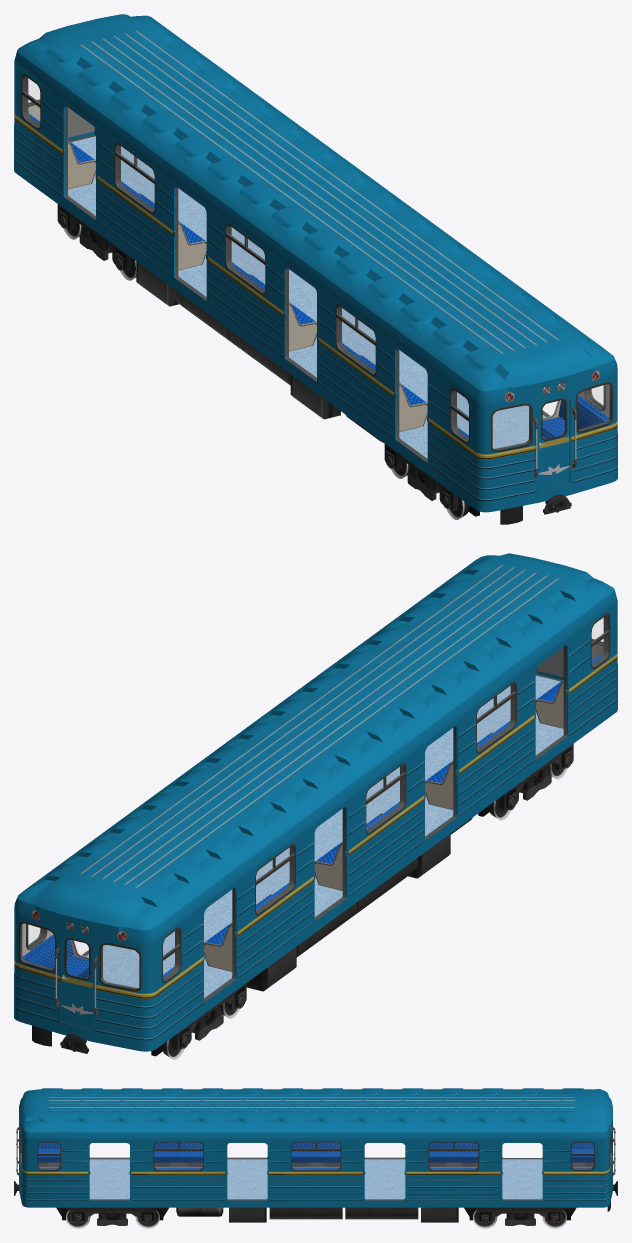
Rendered from SubwayTrain01_Body2.FBX.
The picture shows the model from 3 angles, top to bottom: view 1: azimuth 30°, elevation 25°; view 2: azimuth 150°, elevation 25°; view 3: azimuth 270°, elevation 25°; orthographic projection. The views are drawn at different scales.
Visible parts, largest first — view 1: SubwayTrain01_Roof, SubwayTrain01_Body2, SubwayTrain01_Inter, SubwayTrain01_Wheels, SubwayTrain01_InterBench, SubwayTrain_Bench01a, SubwayTrain01_DoorF1; view 2: SubwayTrain01_Roof, SubwayTrain01_Body2, SubwayTrain01_Inter, SubwayTrain01_Wheels, SubwayTrain01_InterBench, SubwayTrain_Bench01a, SubwayTrain01_DoorF2; view 3: SubwayTrain01_Body2, SubwayTrain01_Roof, SubwayTrain01_Inter, SubwayTrain01_Wheels, SubwayTrain_Bench01a, SubwayTrain01_Inter2.
Part boxes in pixels (box(x1,y1,x2,y2)): SubwayTrain01_Roof: box(17, 14, 614, 391); SubwayTrain01_Body2: box(14, 50, 617, 512); SubwayTrain01_Inter: box(22, 76, 611, 490); SubwayTrain01_Wheels: box(57, 204, 571, 524); SubwayTrain01_InterBench: box(68, 141, 561, 432); SubwayTrain_Bench01a: box(29, 114, 609, 438); SubwayTrain01_DoorF1: box(538, 396, 569, 489); SubwayTrain01_Roof: box(17, 553, 614, 930); SubwayTrain01_Body2: box(14, 590, 617, 1051); SubwayTrain01_Inter: box(20, 615, 609, 1029); SubwayTrain01_Wheels: box(32, 744, 573, 1059); SubwayTrain01_InterBench: box(71, 680, 563, 971); SubwayTrain_Bench01a: box(23, 653, 602, 978); SubwayTrain01_DoorF2: box(61, 935, 93, 1029); SubwayTrain01_Body2: box(19, 1117, 612, 1207); SubwayTrain01_Roof: box(19, 1088, 612, 1132); SubwayTrain01_Inter: box(19, 1133, 612, 1200); SubwayTrain01_Wheels: box(14, 1181, 617, 1228); SubwayTrain_Bench01a: box(38, 1142, 593, 1168); SubwayTrain01_Inter2: box(16, 1127, 615, 1176).
Size of the model in its own units: 4082 by 4898 by 24396.
